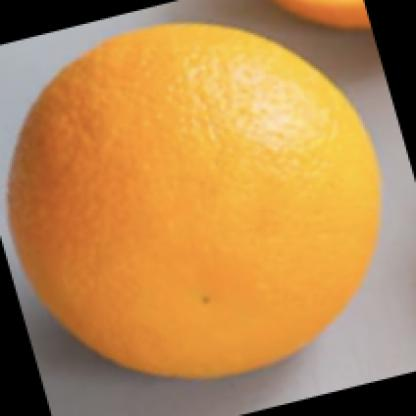orange: (11, 21, 380, 375)
